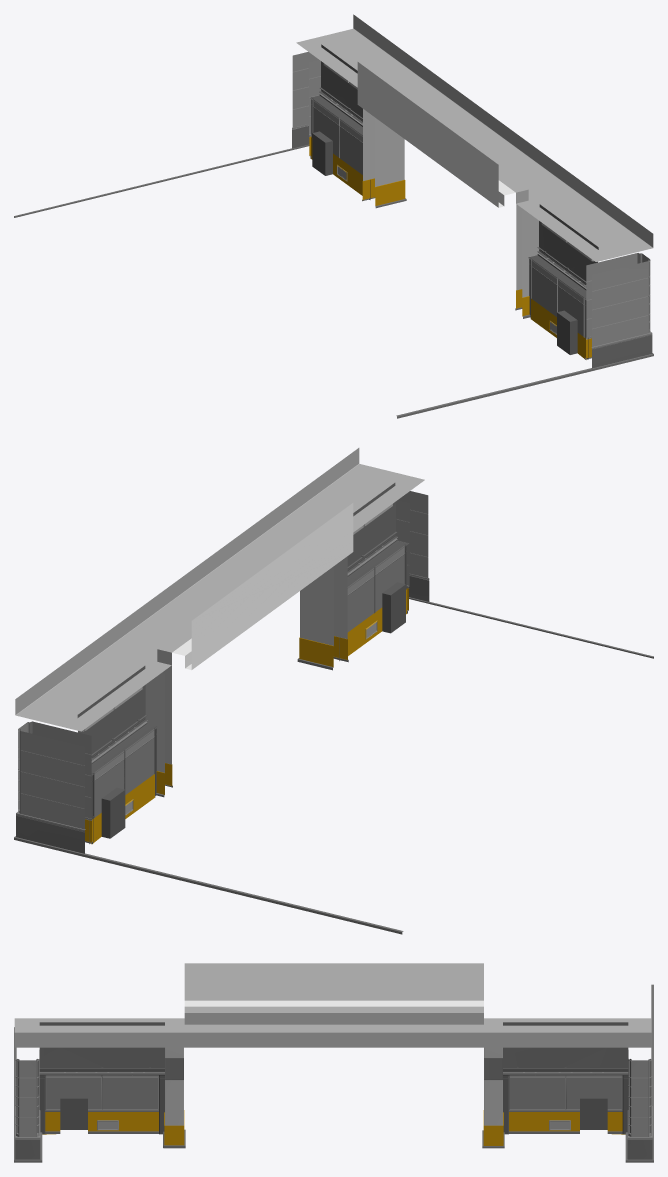
The picture shows the model from 3 angles, top to bottom: view 1: azimuth 30°, elevation 25°; view 2: azimuth 150°, elevation 25°; view 3: azimuth 270°, elevation 25°; orthographic projection. The views are drawn at different scales.
Parts seen in each view (by area): view 1: SM_H_Building_FutureTech_Dock_04f; view 2: SM_H_Building_FutureTech_Dock_04f; view 3: SM_H_Building_FutureTech_Dock_04f.
Boxes of the visible parts, bbox=[...] form: SM_H_Building_FutureTech_Dock_04f: bbox=[14, 14, 653, 418]; SM_H_Building_FutureTech_Dock_04f: bbox=[14, 448, 653, 934]; SM_H_Building_FutureTech_Dock_04f: bbox=[14, 963, 653, 1162].
Size of the model in its own units: 1547 by 1005 by 429.
